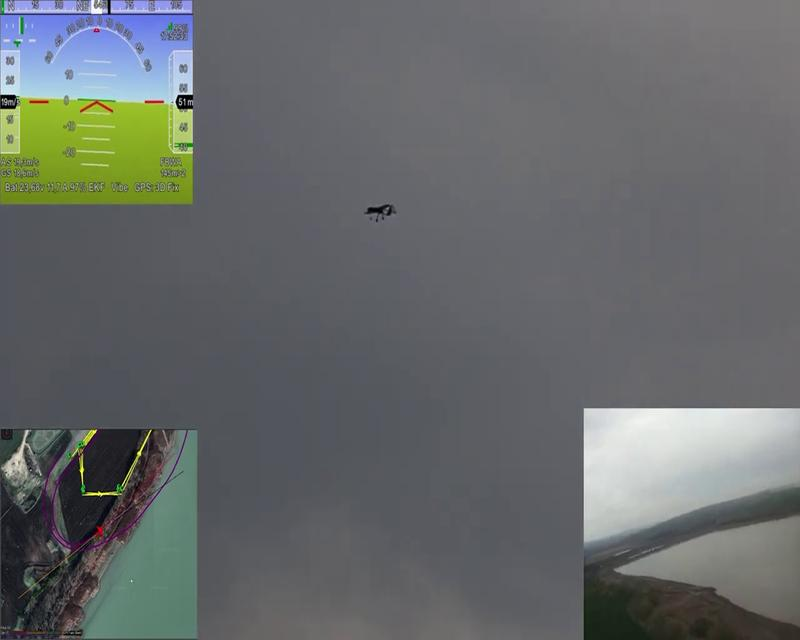UAV: (363, 202, 397, 224)
